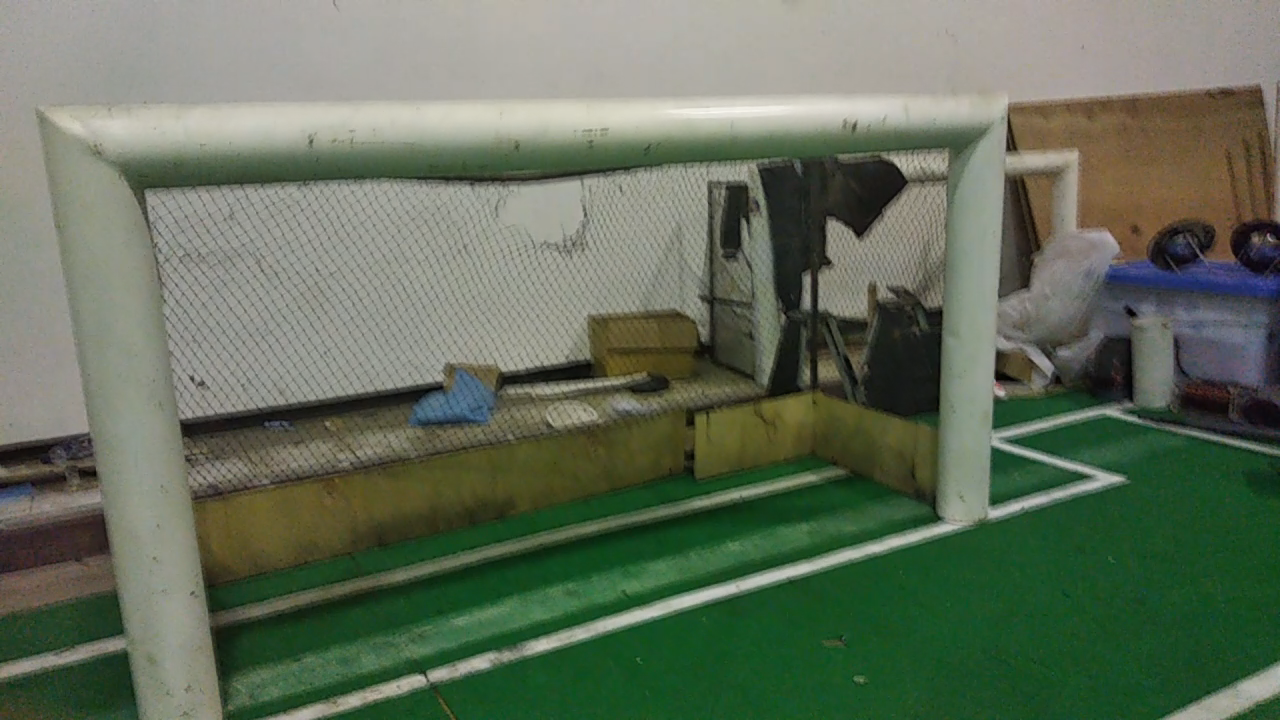gawang: (21, 75, 1012, 713)
